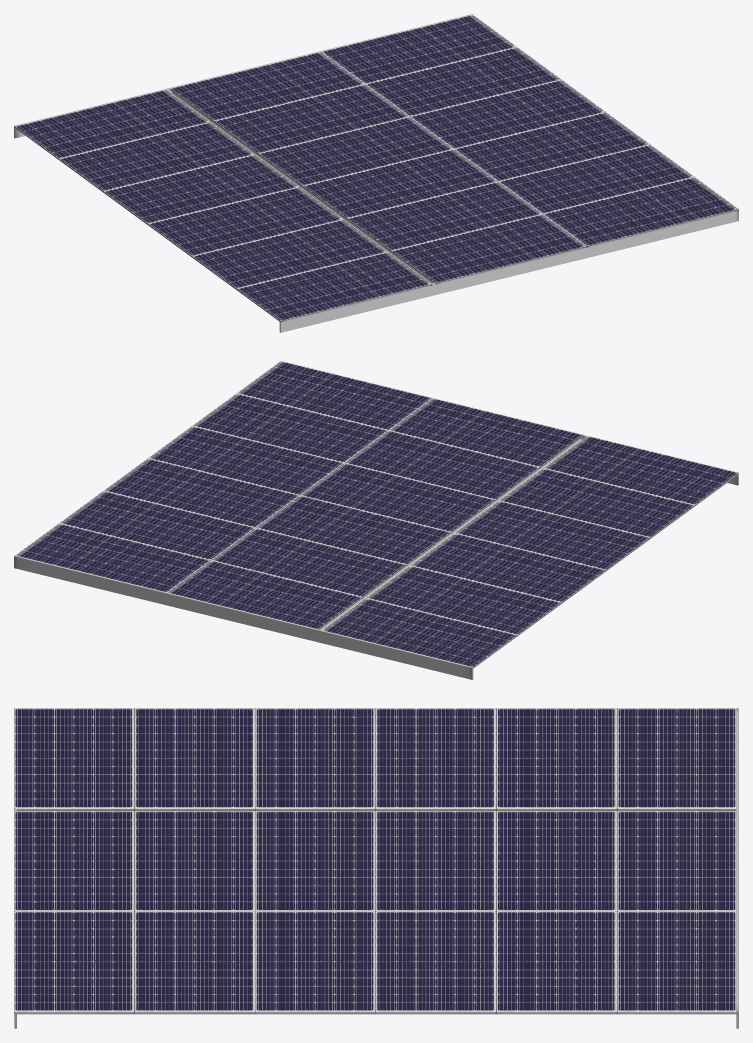
The model's file is roof_solar_panel.glb.
The picture shows the model from 3 angles, top to bottom: view 1: azimuth 30°, elevation 25°; view 2: azimuth 150°, elevation 25°; view 3: azimuth 270°, elevation 25°; orthographic projection. The views are drawn at different scales.
Parts seen in each view (by area): view 1: Braced Single Post Carport_0; view 2: Braced Single Post Carport_0; view 3: Braced Single Post Carport_0.
Part boxes in pixels (bbox=[...]): Braced Single Post Carport_0: bbox=[14, 14, 738, 332]; Braced Single Post Carport_0: bbox=[14, 361, 738, 679]; Braced Single Post Carport_0: bbox=[14, 708, 738, 1028].
Bounding box in the file's own units: 6.55 × 0.1626 × 6.6.
Materials: 1 (1 with a texture image).
